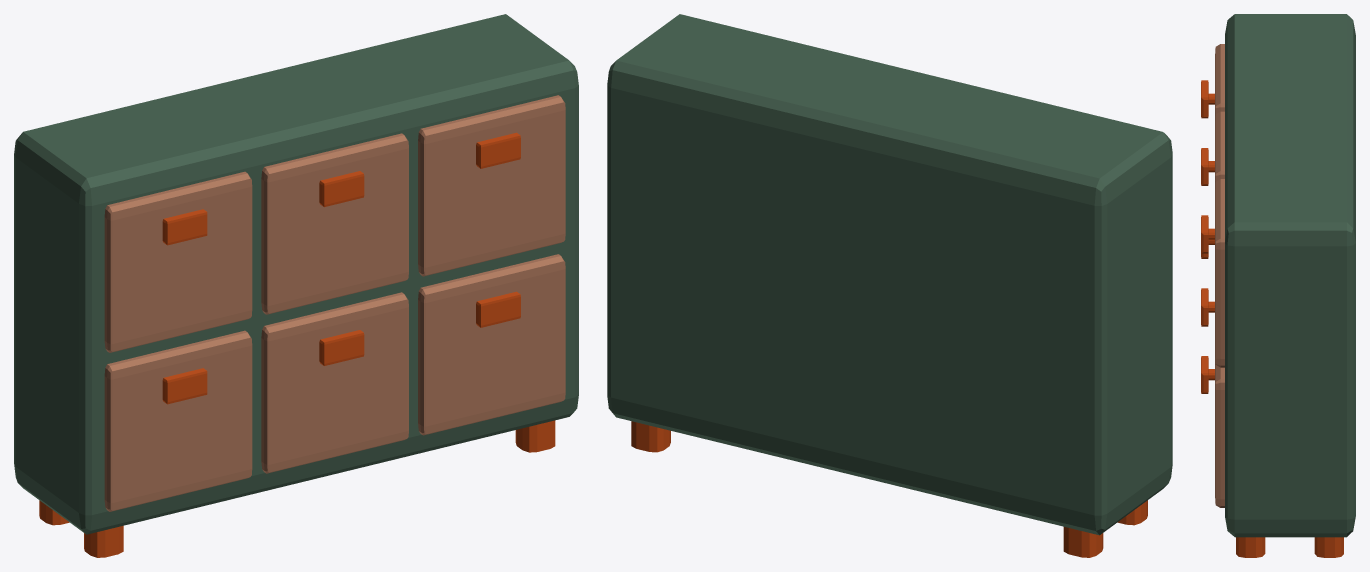
File: shoe_cabinet_entrance.fbx
3 views of the same model, side by side, from view 1: azimuth 30°, elevation 25°; view 2: azimuth 150°, elevation 25°; view 3: azimuth 270°, elevation 25° (orthographic). The views are drawn at different scales.
Parts seen in each view (by area): view 1: Cube.042, shoe_cabinet_entrance, Cube.036; view 2: shoe_cabinet_entrance, Cube.036; view 3: shoe_cabinet_entrance, Cube.042, Cube.036.
Part boxes in pixels (<box>): Cube.042: <box>104,95,565,511</box>; shoe_cabinet_entrance: <box>14,14,578,534</box>; Cube.036: <box>39,132,555,557</box>; shoe_cabinet_entrance: <box>607,14,1172,535</box>; Cube.036: <box>631,421,1147,557</box>; shoe_cabinet_entrance: <box>1225,14,1355,537</box>; Cube.042: <box>1215,44,1224,507</box>; Cube.036: <box>1201,80,1343,557</box>.
Size of the model in its own units: 145 by 107 by 44.07.
